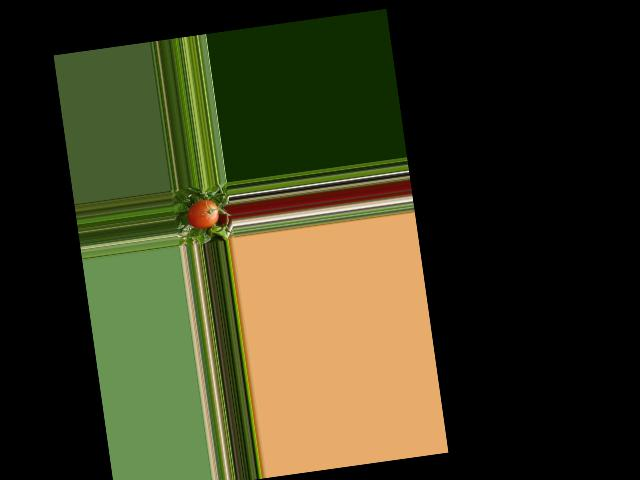tomato: (186, 198, 220, 229)
